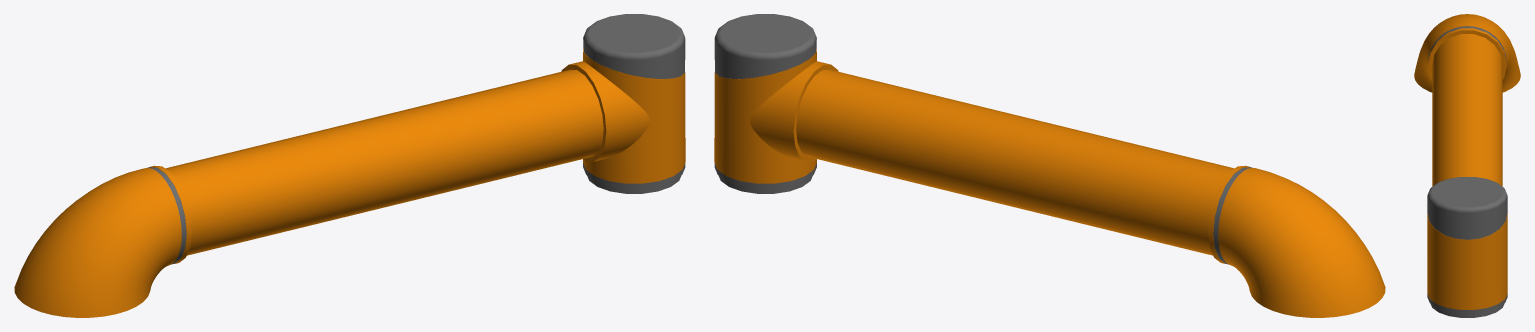
3 renders of one model, left to right at view 1: azimuth 30°, elevation 25°; view 2: azimuth 150°, elevation 25°; view 3: azimuth 270°, elevation 25°, orthographic. The views are drawn at different scales.
Parts seen in each view (by area): view 1: FBXASC195FBXASC135FBXASC195FBXASC144FBXASC194FBXASC179FBXASC; view 2: FBXASC195FBXASC135FBXASC195FBXASC144FBXASC194FBXASC179FBXASC; view 3: FBXASC195FBXASC135FBXASC195FBXASC144FBXASC194FBXASC179FBXASC.
Boxes of the visible parts, x1=… form: FBXASC195FBXASC135FBXASC195FBXASC144FBXASC194FBXASC179FBXASC: x1=14, y1=14, x2=685, y2=317; FBXASC195FBXASC135FBXASC195FBXASC144FBXASC194FBXASC179FBXASC: x1=714, y1=14, x2=1385, y2=317; FBXASC195FBXASC135FBXASC195FBXASC144FBXASC194FBXASC179FBXASC: x1=1414, y1=14, x2=1520, y2=317.
Bounding box in the file's own units: 0.656 × 0.118 × 0.1345.
